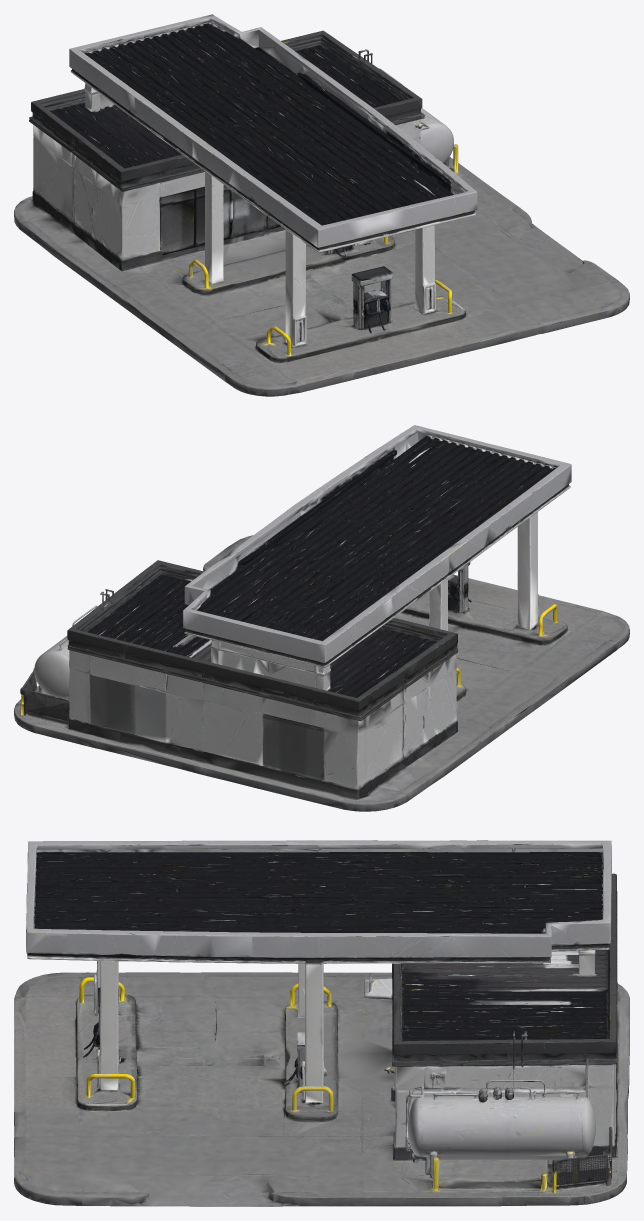
File: spbu-lite.glb
3 views of the same model, one above another, from view 1: azimuth 30°, elevation 25°; view 2: azimuth 150°, elevation 25°; view 3: azimuth 270°, elevation 25° (orthographic). The views are drawn at different scales.
Size of the model in its own units: 1.65 by 0.6143 by 1.9.
Materials: 1 (1 with a texture image).
